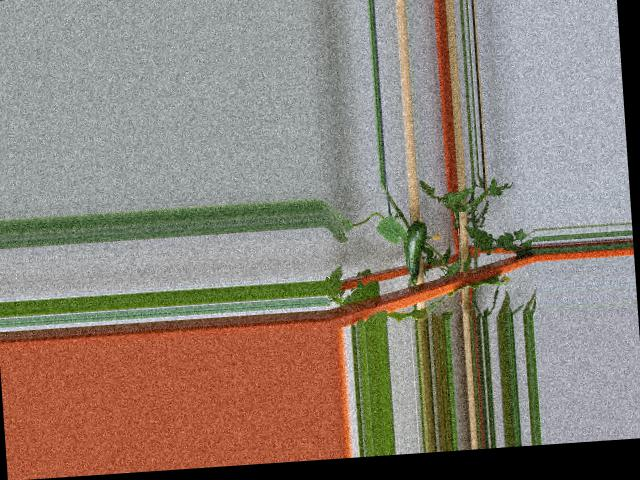cucumber: (402, 215, 430, 277)
